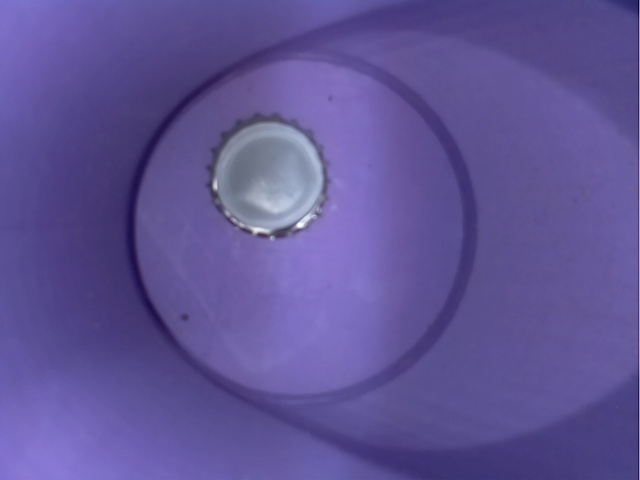capsule: (187, 101, 350, 250)
